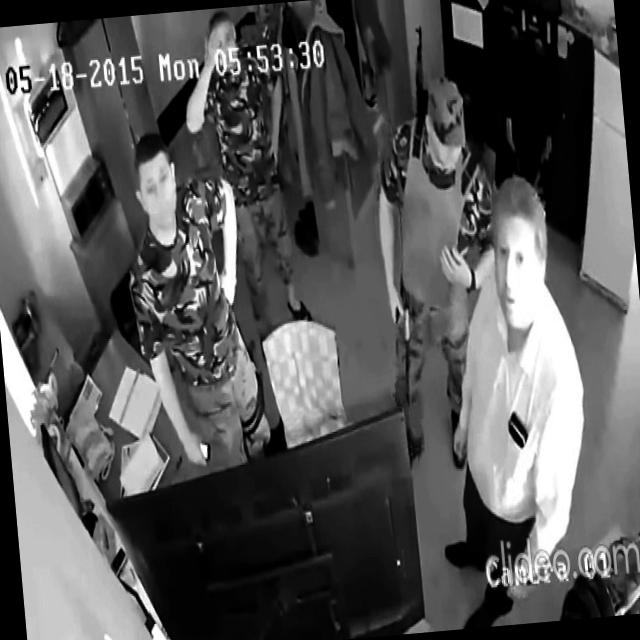gun: (394, 274, 418, 408), (405, 22, 434, 120)
person: (410, 170, 606, 630), (117, 124, 274, 476), (177, 4, 316, 342)
person with a gun: (367, 74, 518, 476)
